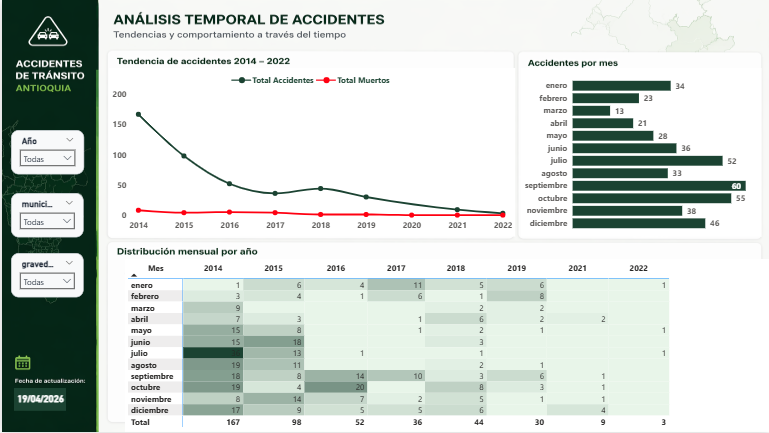

The page's visual inventory and layout, read from the dashboard file:
{"tool":"powerbi","page":{"name":"Página 2","canvas":[1280,720],"ordinal":1},"visuals":[{"type":"lineChart","fields":{"Category":["Consulta1.fecha_accidente.Variación.Jerarquía de fechas.Año"],"Y":["Consulta1.Total Accidentes","Consulta1.Total Muertos"]},"box":[177.8,113.1,677.4,280.7],"z":0},{"type":"slicer","fields":{"Values":["Consulta1.gravedad"]},"box":[14.4,422.2,121.1,74.4],"z":0,"group":"g2"},{"type":"clusteredBarChart","fields":{"Category":["Consulta1.fecha_accidente.Variación.Jerarquía de fechas.Mes"],"Y":["Consulta1.Total Accidentes"]},"box":[865.5,113.1,401.1,280.7],"z":1000},{"type":"group","id":"g1","title":"Grupo 1","box":[14.4,217,122.6,179.7],"z":1000,"group":"g2"},{"type":"pivotTable","fields":{"Rows":["Consulta1.fecha_accidente.Variación.Jerarquía de fechas.Mes"],"Columns":["Consulta1.fecha_accidente.Variación.Jerarquía de fechas.Año"],"Values":["Consulta1.Total Accidentes"]},"box":[204.2,432,1075.6,288],"z":2000},{"type":"shape","box":[20.6,646.5,86.7,38.2],"z":2500},{"type":"card","fields":{"Values":["Consulta1.Hoy"]},"box":[14.7,639.2,98.4,51.4],"z":3000},{"type":"group","id":"g2","title":"Grupo 2","box":[14.4,217,122.6,279.7],"z":3001},{"type":"slicer","fields":{"Values":["Consulta1.fecha_accidente.Variación.Jerarquía de fechas.Año"]},"box":[15,217,122,74],"z":8000,"group":"g1"},{"type":"slicer","fields":{"Values":["Consulta1.municipio"]},"box":[14.4,322.2,121.1,74.4],"z":9000,"group":"g1"}]}

Visuals, with their boxes in screenshot pixels (x1, y1, x2, y2), scaled from the page's 1280x720 canvas onto the 769x433 screenshot:
lineChart - Consulta1.fecha_accidente.Variación.Jerarquía de fechas.Año x Consulta1.Total Accidentes: region(107, 68, 514, 237)
slicer - Consulta1.gravedad: region(9, 254, 81, 299)
clusteredBarChart - Consulta1.fecha_accidente.Variación.Jerarquía de fechas.Mes x Consulta1.Total Accidentes: region(520, 68, 761, 237)
"Grupo 1" group: region(9, 131, 82, 239)
pivotTable - Consulta1.fecha_accidente.Variación.Jerarquía de fechas.Mes x Consulta1.fecha_accidente.Variación.Jerarquía de fechas.Año: region(123, 260, 768, 432)
shape: region(12, 389, 64, 412)
card - Consulta1.Hoy: region(9, 384, 68, 415)
"Grupo 2" group: region(9, 131, 82, 299)
slicer - Consulta1.fecha_accidente.Variación.Jerarquía de fechas.Año: region(9, 131, 82, 175)
slicer - Consulta1.municipio: region(9, 194, 81, 239)
